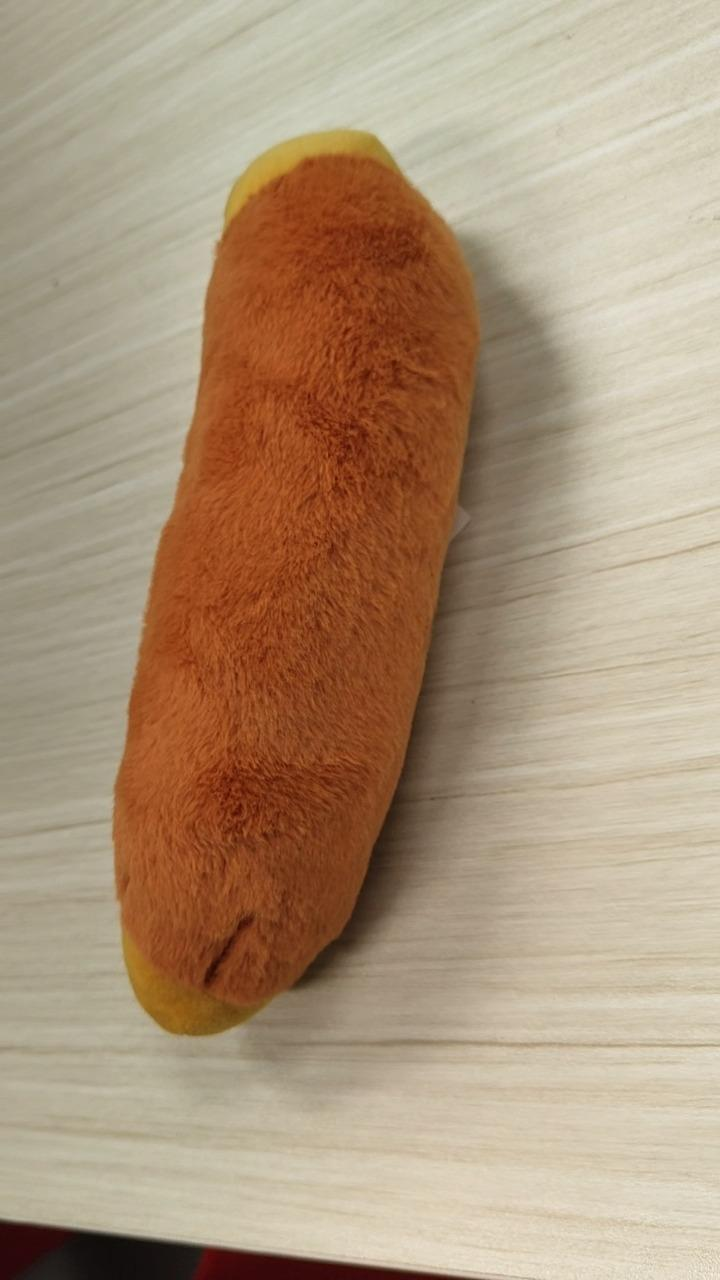hotdog: (111, 126, 481, 1037)
